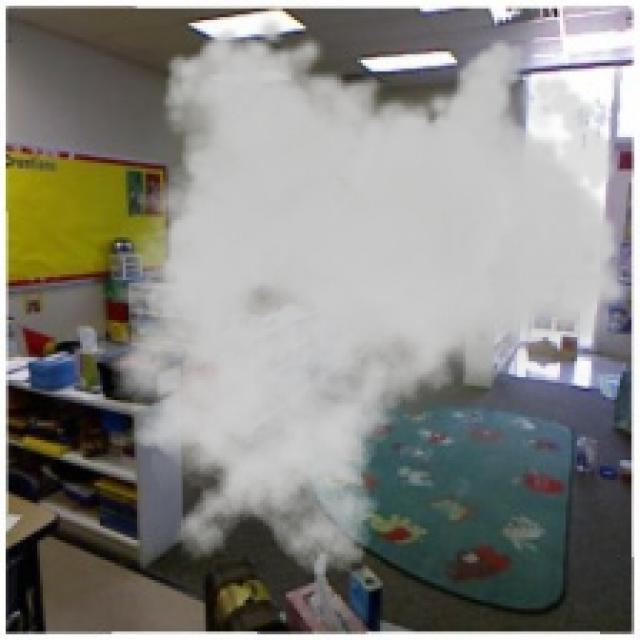Smoke: (66, 14, 632, 577)
